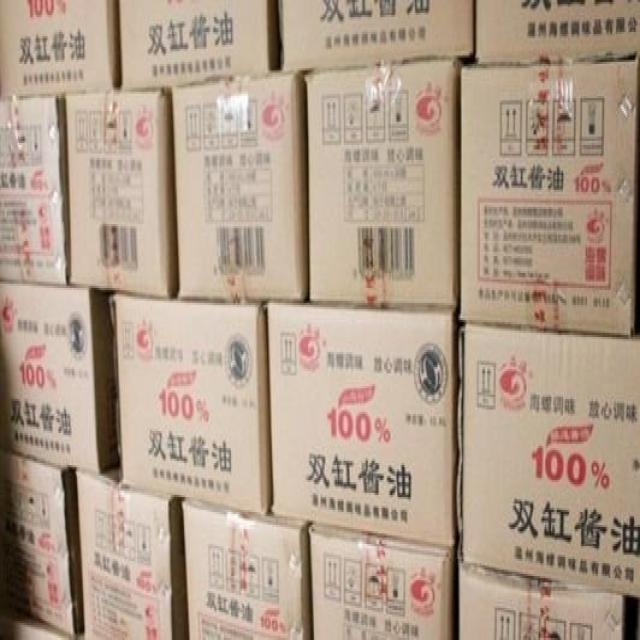box: (456, 322, 639, 597), (458, 60, 638, 337), (267, 303, 455, 550), (306, 58, 462, 307), (111, 294, 272, 514), (172, 73, 309, 301), (65, 85, 178, 299), (0, 279, 118, 471), (78, 471, 188, 638), (184, 499, 312, 638), (310, 527, 456, 640), (0, 446, 84, 638), (119, 2, 282, 90), (279, 0, 475, 73), (0, 96, 70, 284), (458, 563, 624, 640), (0, 2, 122, 98), (476, 0, 640, 64)
